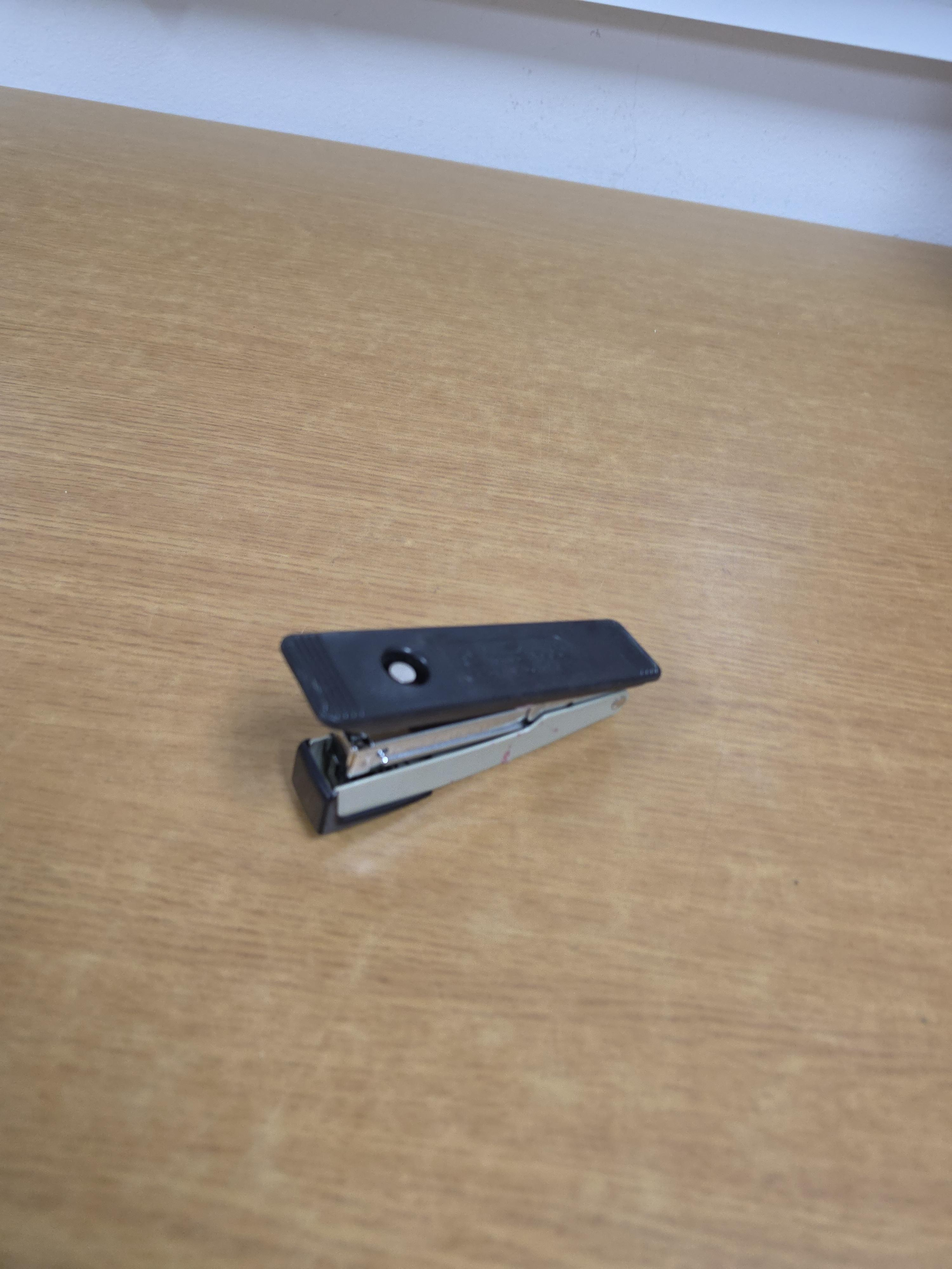stapler: (280, 619, 662, 837)
